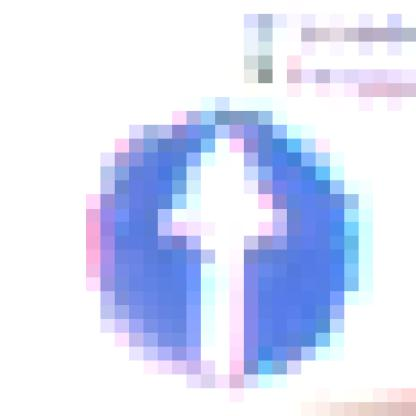AheadOnly: (73, 84, 331, 348)
